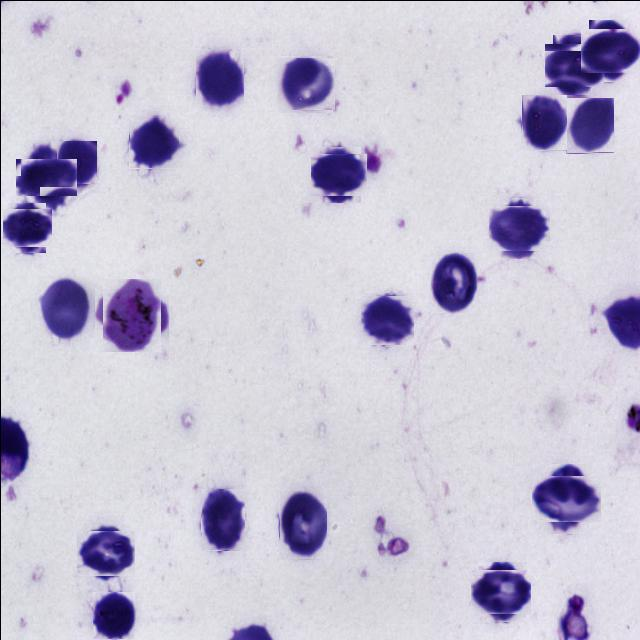difficult: (98, 282, 164, 348)
red blood cell: (536, 469, 594, 527), (278, 490, 326, 559), (41, 276, 90, 338), (278, 56, 333, 111), (492, 201, 546, 254), (474, 564, 526, 618), (195, 48, 243, 106), (200, 488, 244, 550), (548, 38, 600, 90), (584, 24, 636, 76), (79, 527, 131, 579), (128, 114, 178, 168), (431, 252, 476, 312), (565, 96, 613, 152), (361, 293, 412, 345), (520, 94, 566, 150), (314, 149, 364, 199), (21, 152, 71, 201), (92, 591, 134, 638), (4, 205, 48, 249), (56, 140, 96, 183)
